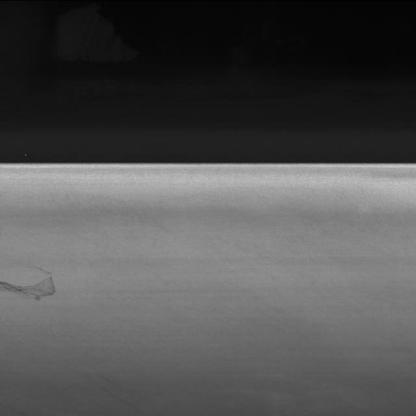water_spot: (0, 257, 63, 309)
